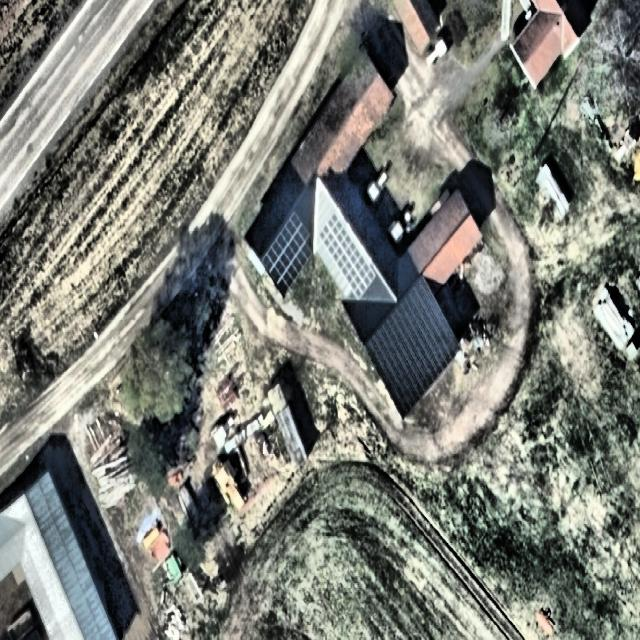roof_pv: (318, 211, 377, 299), (264, 210, 316, 298)
